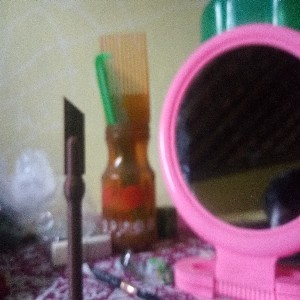cutter: (62, 95, 87, 300)
